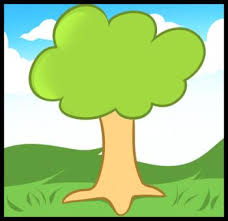tree: (26, 5, 214, 206)
